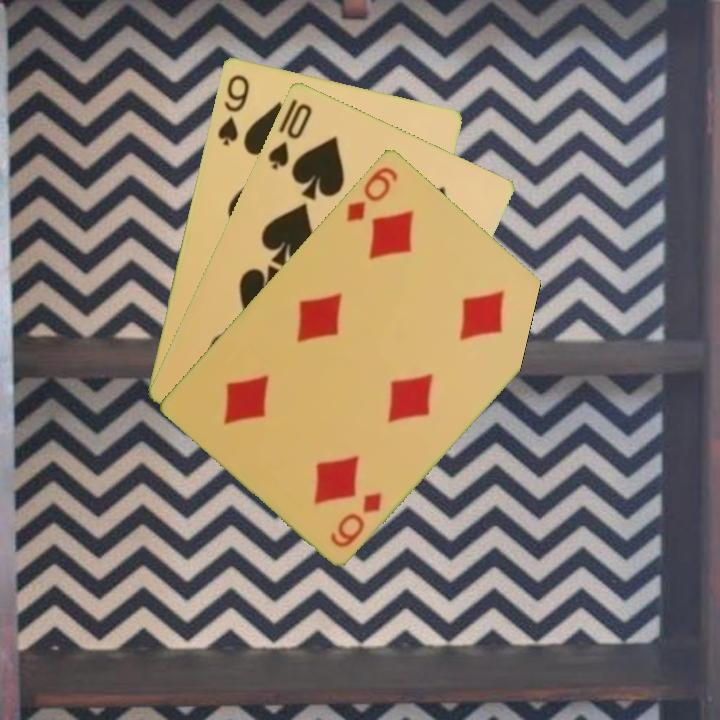10s: (264, 99, 315, 172)
6d: (342, 162, 401, 224), (326, 488, 385, 550)
9s: (213, 70, 252, 149)
